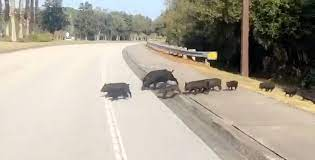boar: (141, 68, 180, 92), (100, 82, 132, 102), (182, 79, 209, 94), (258, 79, 277, 94), (225, 80, 241, 90)
